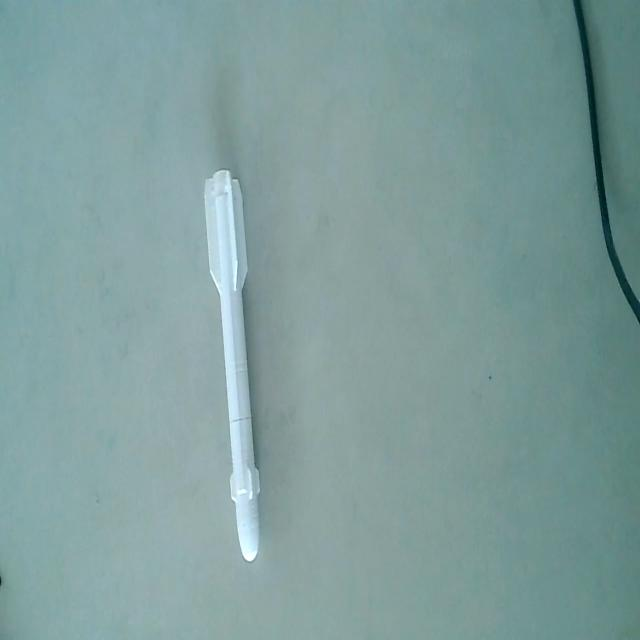Rocket: (200, 164, 266, 572)
